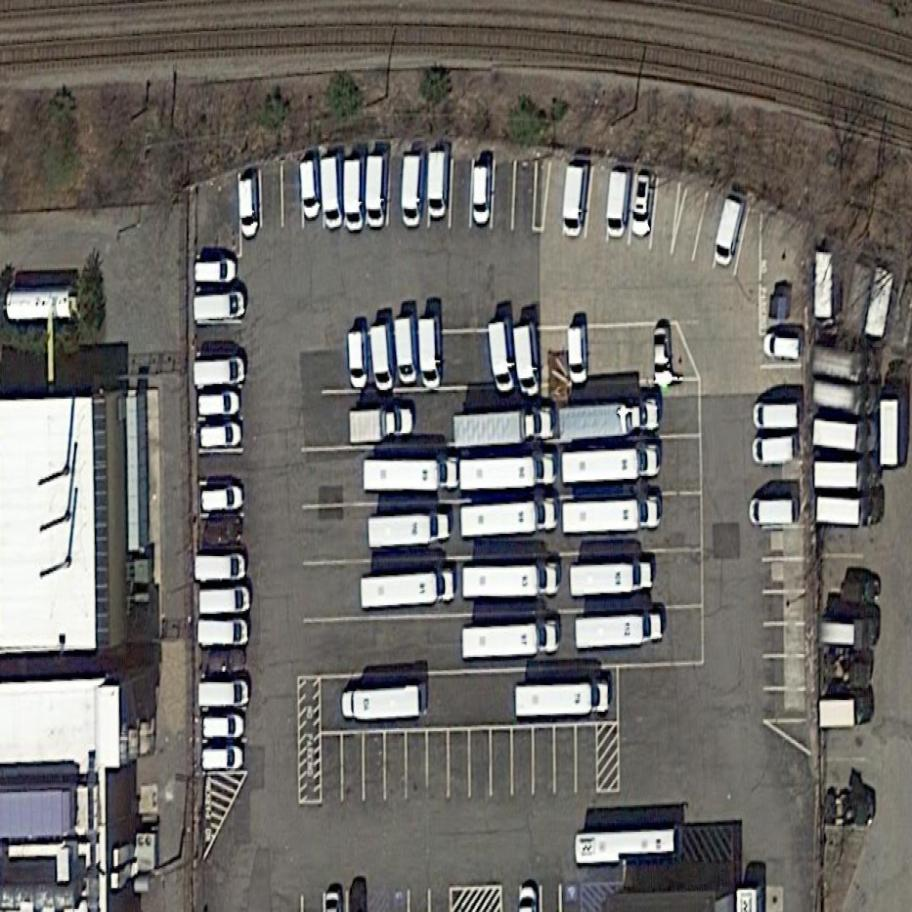large-vehicle: (575, 823, 682, 868), (452, 406, 556, 449), (558, 399, 662, 442), (460, 618, 561, 661), (561, 445, 663, 486), (562, 497, 663, 537), (459, 500, 560, 540), (459, 453, 560, 492), (575, 611, 665, 654), (839, 253, 877, 354), (360, 571, 458, 610), (462, 562, 562, 599), (514, 681, 611, 719), (861, 262, 898, 356), (362, 457, 460, 492), (570, 559, 655, 599), (341, 685, 422, 724), (807, 344, 880, 387), (368, 512, 451, 549), (814, 489, 882, 531), (810, 417, 879, 457), (347, 406, 417, 445), (810, 380, 875, 418), (817, 691, 874, 734), (816, 615, 878, 654), (813, 249, 840, 338), (813, 457, 881, 492), (879, 378, 902, 472)
small-vehicle: (510, 322, 542, 399), (712, 194, 744, 270), (190, 289, 250, 325), (488, 320, 516, 394), (562, 165, 587, 242), (417, 317, 441, 391), (606, 169, 630, 242), (835, 574, 886, 608), (394, 317, 418, 389), (320, 156, 343, 230), (193, 357, 246, 389), (749, 495, 800, 528), (198, 586, 252, 617), (631, 172, 654, 242), (370, 325, 394, 392), (565, 325, 589, 387), (195, 255, 240, 288), (197, 620, 250, 648), (198, 681, 249, 710), (299, 160, 323, 221), (402, 153, 421, 230), (195, 553, 246, 581), (344, 159, 363, 232), (367, 154, 385, 230), (753, 434, 795, 466), (428, 151, 447, 221), (755, 403, 799, 432), (346, 331, 367, 391), (652, 328, 673, 387), (238, 178, 258, 239), (201, 746, 246, 773), (202, 519, 245, 546), (200, 421, 241, 448), (200, 488, 244, 513), (198, 391, 240, 417), (762, 332, 802, 359), (202, 715, 245, 740), (206, 651, 247, 676), (473, 166, 489, 227)
